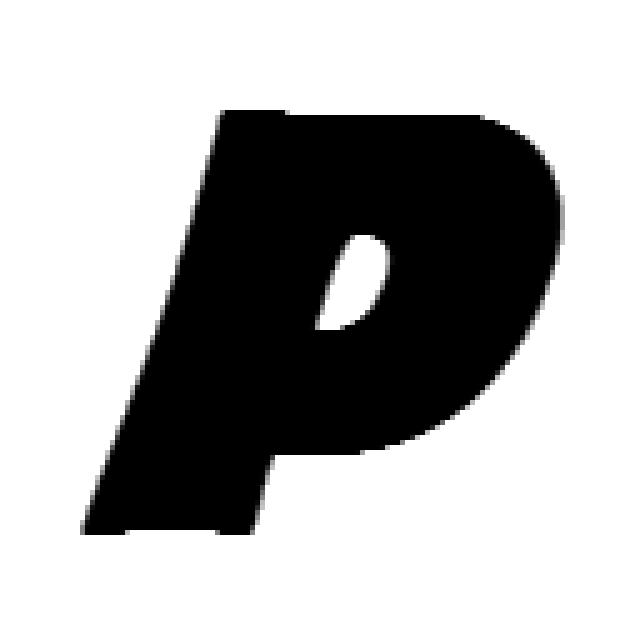P: (80, 110, 560, 540)
